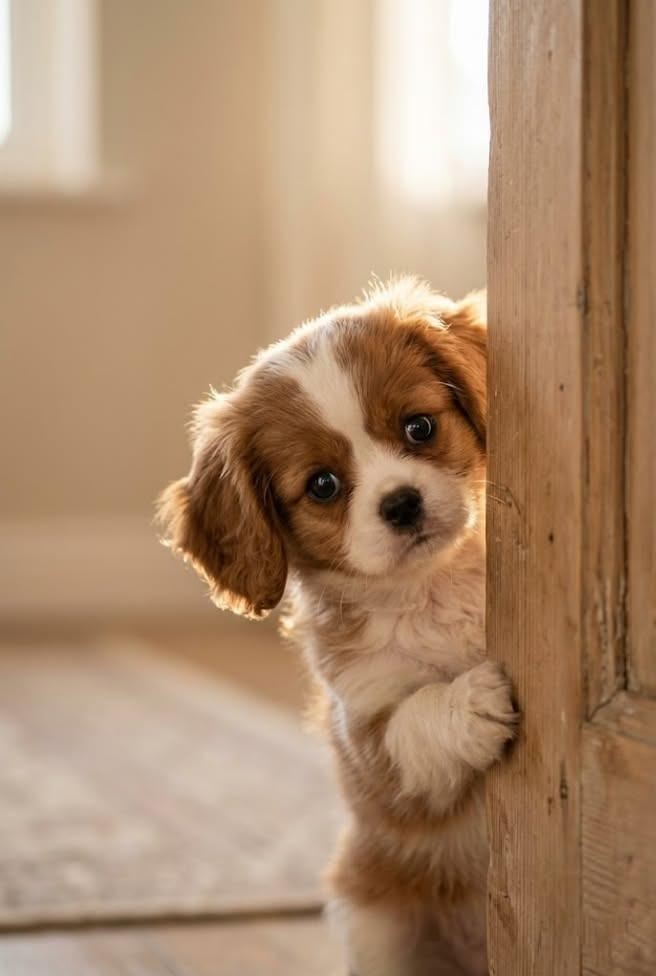puppy-dog: (155, 272, 521, 976)
